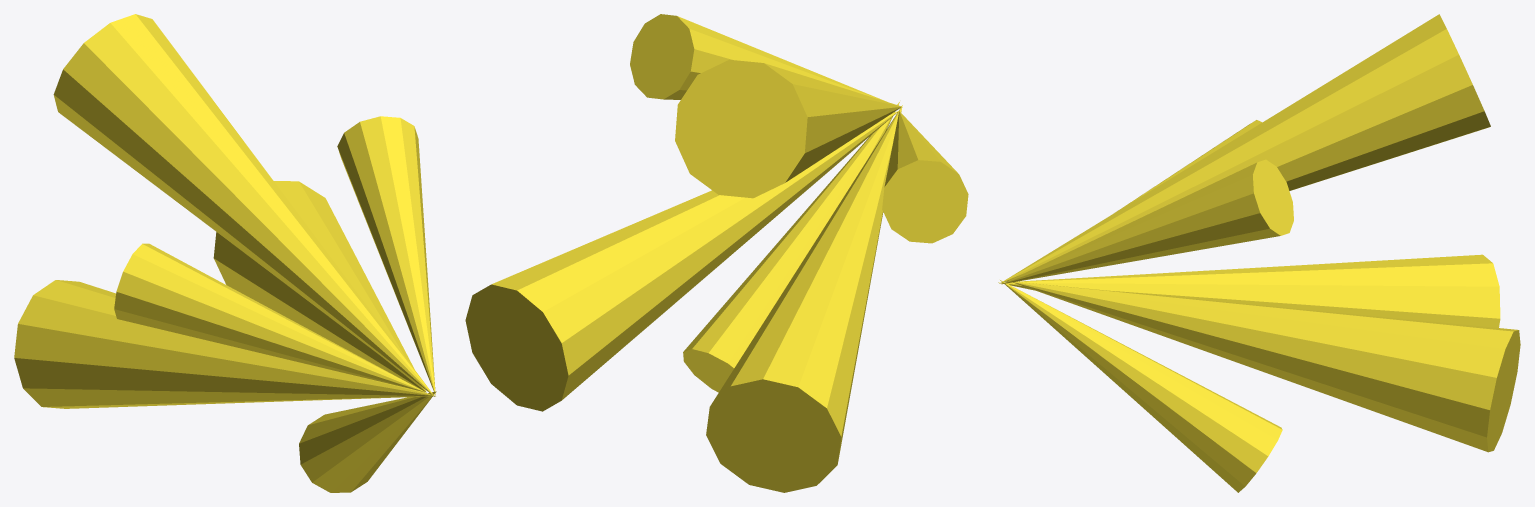
Rendered from Shotgun - Muzzle Flash.obj.
The picture shows the model from 3 angles, left to right: view 1: azimuth 30°, elevation 25°; view 2: azimuth 150°, elevation 25°; view 3: azimuth 270°, elevation 25°; orthographic projection. The views are drawn at different scales.
Parts seen in each view (by area): view 1: group1686224423, group1746627453, group1565512473, group1981820982, group36427447, group859198247; view 2: group36427447, group1746627453, group1686224423, group859198247, group1981820982, group1565512473; view 3: group36427447, group1686224423, group1746627453, group859198247, group1981820982, group1565512473.
Part boxes in pixels (left/top/right/bottom): group1686224423: left=53, top=14, right=434, bottom=396; group1746627453: left=14, top=280, right=435, bottom=408; group1565512473: left=114, top=243, right=425, bottom=392; group1981820982: left=337, top=116, right=435, bottom=395; group36427447: left=213, top=181, right=426, bottom=392; group859198247: left=299, top=391, right=436, bottom=492; group36427447: left=465, top=110, right=899, bottom=411; group1746627453: left=706, top=105, right=902, bottom=492; group1686224423: left=675, top=59, right=901, bottom=198; group859198247: left=683, top=102, right=899, bottom=392; group1981820982: left=630, top=14, right=886, bottom=101; group1565512473: left=882, top=111, right=968, bottom=243; group36427447: left=1013, top=282, right=1520, bottom=452; group1686224423: left=999, top=14, right=1490, bottom=283; group1746627453: left=998, top=254, right=1500, bottom=327; group859198247: left=1000, top=280, right=1282, bottom=492; group1981820982: left=1001, top=159, right=1293, bottom=284; group1565512473: left=1115, top=120, right=1261, bottom=212.
Size of the model in its own units: 0.0607 by 0.071 by 0.0816.
